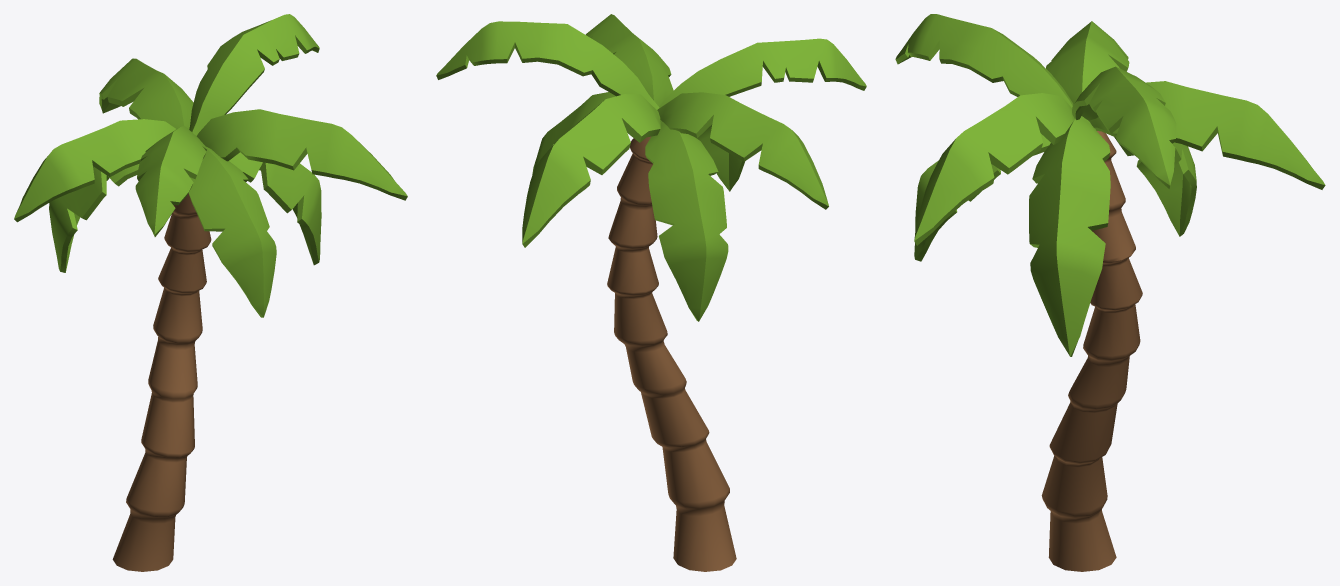
The model's file is palmera_2.glb.
The picture shows the model from 3 angles, left to right: view 1: azimuth 30°, elevation 25°; view 2: azimuth 150°, elevation 25°; view 3: azimuth 270°, elevation 25°; orthographic projection. The views are drawn at different scales.
Parts seen in each view (by area): view 1: Environment_PalmTree_1; view 2: Environment_PalmTree_1; view 3: Environment_PalmTree_1.
Boxes of the visible parts, <box> form: Environment_PalmTree_1: <box>14,14,407,571</box>; Environment_PalmTree_1: <box>436,14,866,571</box>; Environment_PalmTree_1: <box>895,14,1325,571</box>.
Bounding box in the file's own units: 2.61 × 3.59 × 2.52.
1 material, 1 textured.
